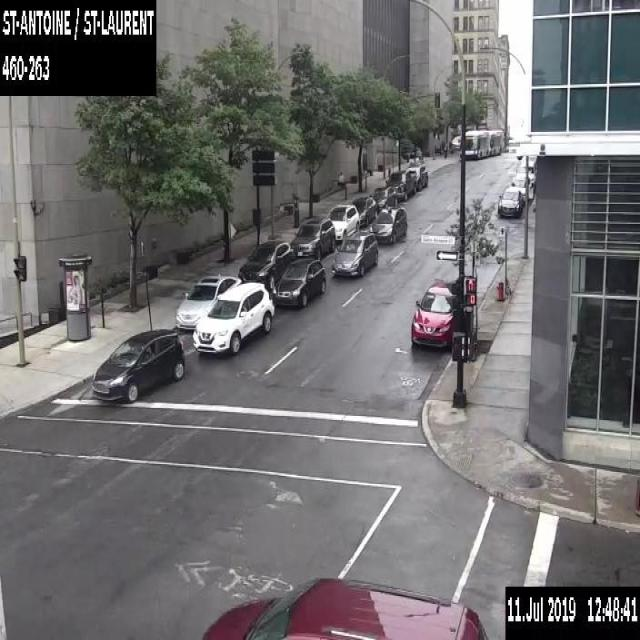bus: (464, 125, 504, 160)
pedestrian: (336, 170, 346, 187)
vehicle: (201, 576, 486, 639), (92, 328, 183, 400), (192, 281, 274, 353), (176, 274, 242, 329), (410, 281, 456, 348), (237, 239, 293, 290), (272, 257, 325, 306), (330, 230, 378, 276), (289, 217, 335, 260), (369, 205, 407, 244), (326, 203, 359, 241), (384, 169, 416, 200), (497, 187, 524, 216), (351, 195, 377, 225), (369, 185, 397, 211), (509, 176, 533, 200), (407, 163, 428, 190), (516, 160, 536, 180), (452, 134, 460, 148)
